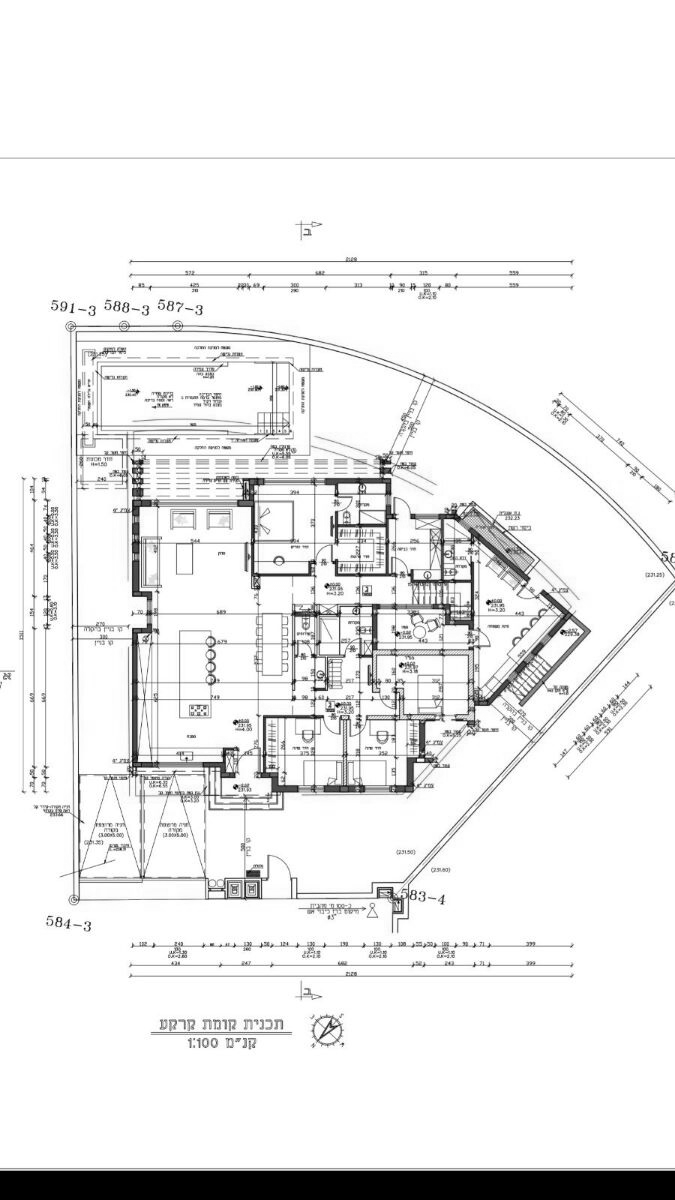door: (237, 745, 261, 782), (347, 709, 375, 740), (316, 708, 342, 741), (385, 551, 411, 584), (312, 538, 338, 571), (314, 706, 340, 739), (388, 495, 417, 524), (514, 578, 545, 602), (465, 627, 492, 652), (463, 625, 490, 650), (377, 681, 399, 710), (341, 637, 363, 664)
wall: (126, 624, 146, 773)
window: (154, 759, 208, 773), (359, 783, 396, 797), (292, 782, 330, 795)
